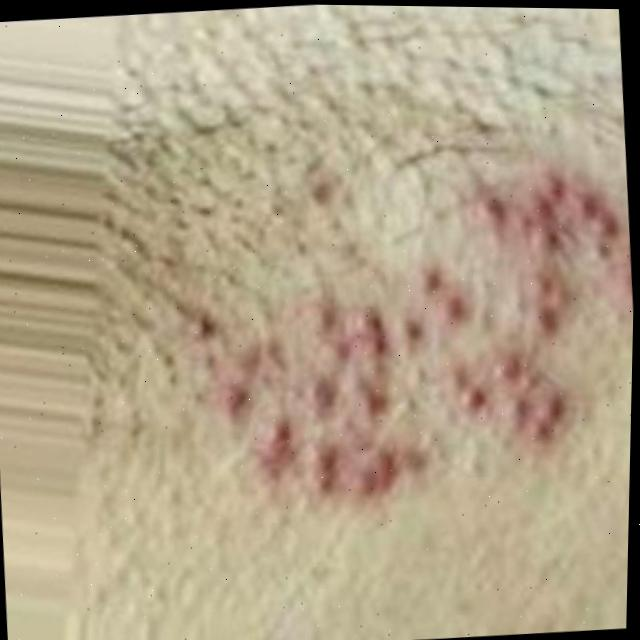Shingles: (165, 153, 637, 510)
